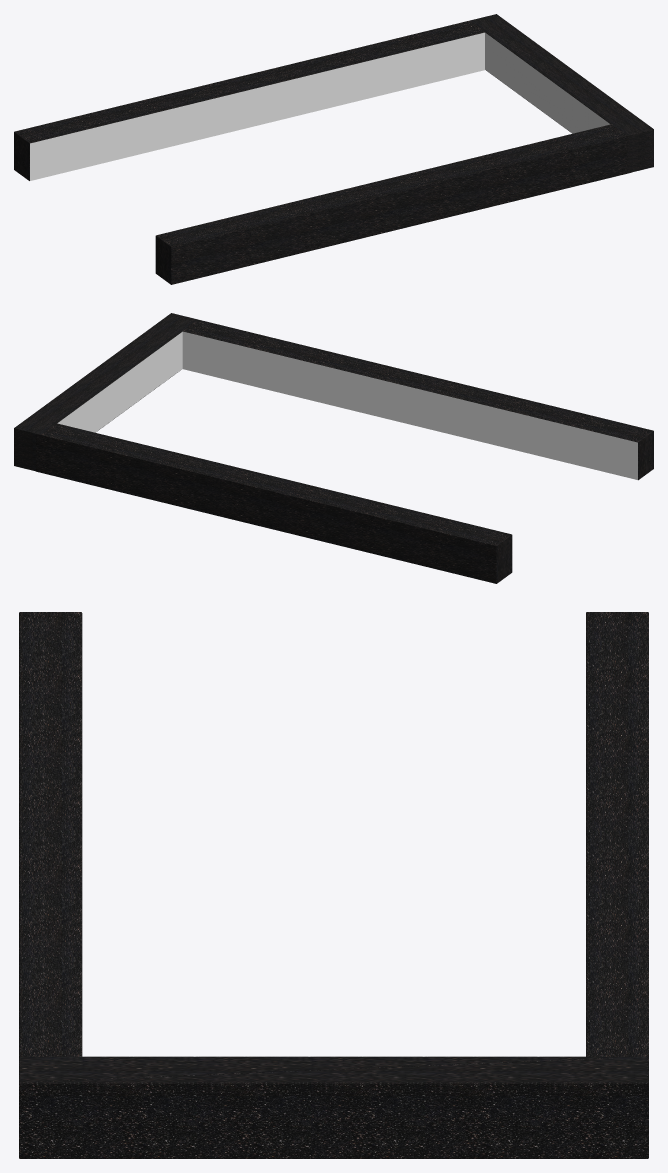
The model's file is цветник черн 100-60.glb.
3 renders of one model, top to bottom at view 1: azimuth 30°, elevation 25°; view 2: azimuth 150°, elevation 25°; view 3: azimuth 270°, elevation 25°, orthographic. The views are drawn at different scales.
Parts seen in each view (by area): view 1: Куб.202, Куб.204, Куб.203; view 2: Куб.204, Куб.202, Куб.203; view 3: Куб.203, Куб.202, Куб.204.
Part boxes in pixels (box(x1,y1,x2,y2)): Куб.202: box(155, 124, 631, 284); Куб.204: box(14, 20, 484, 180); Куб.203: box(470, 14, 653, 173); Куб.204: box(36, 423, 512, 583); Куб.202: box(182, 319, 653, 480); Куб.203: box(14, 313, 197, 471); Куб.203: box(19, 1056, 648, 1158); Куб.202: box(19, 612, 82, 1056); Куб.204: box(586, 612, 648, 1061).
Size of the model in its own units: 1.06 by 0.08 by 0.5988.
Materials: 2 (1 with a texture image).
